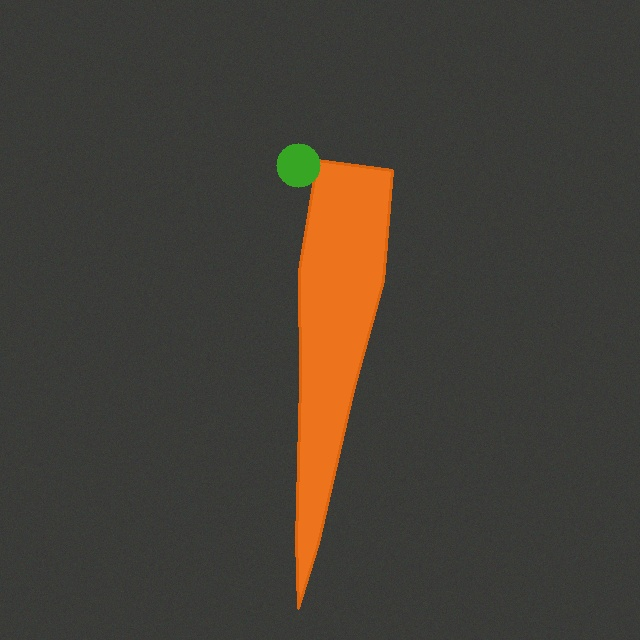Good_Carrot: (288, 152, 400, 616)
